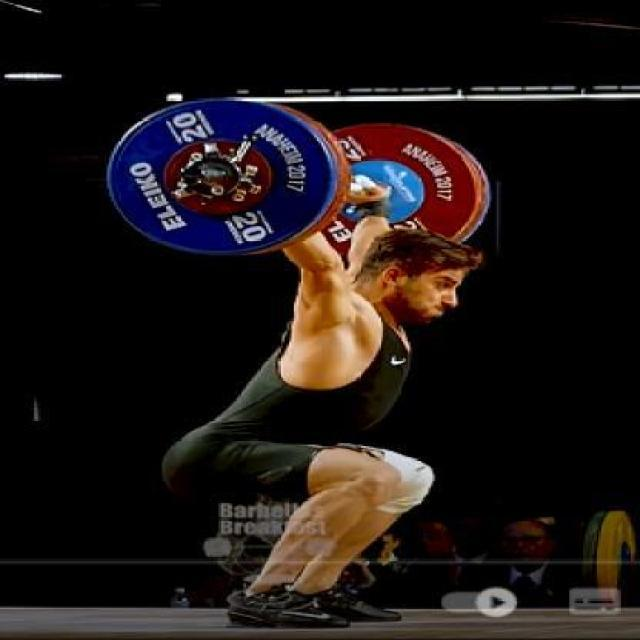barbell: (105, 91, 342, 263)
